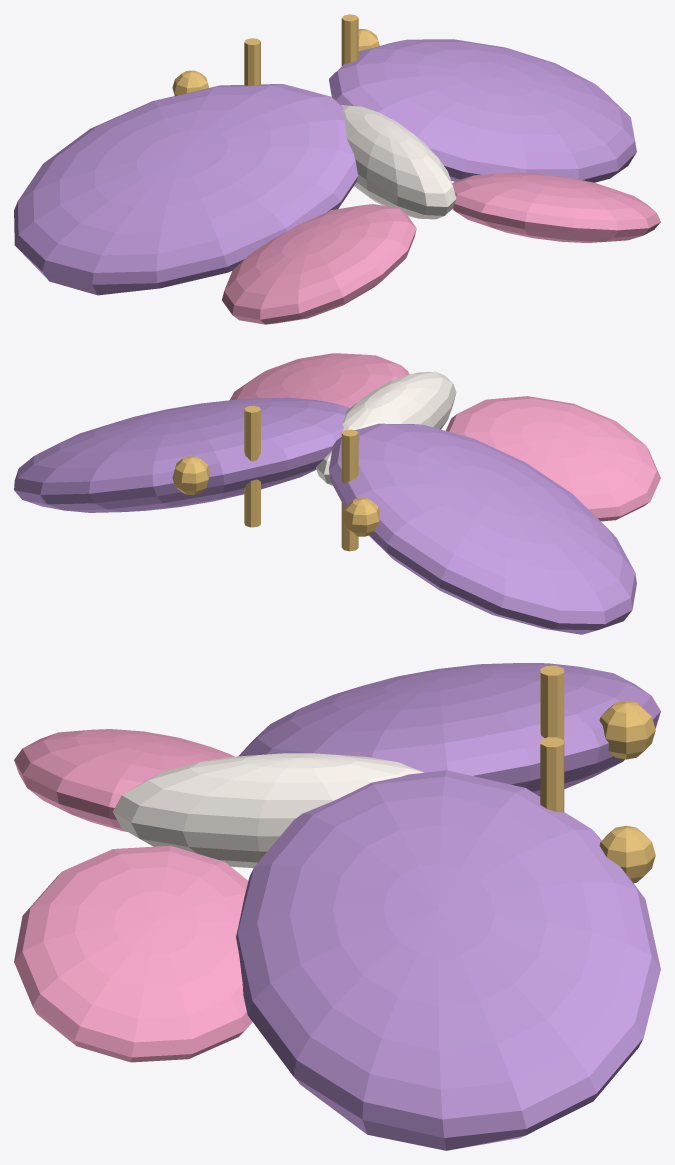
File: charm-butterfly.glb
The picture shows the model from 3 angles, top to bottom: view 1: azimuth 30°, elevation 25°; view 2: azimuth 150°, elevation 25°; view 3: azimuth 270°, elevation 25°; orthographic projection. The views are drawn at different scales.
Visible parts, largest first — view 1: charm_butterfly; view 2: charm_butterfly; view 3: charm_butterfly.
Boxes of the visible parts, x1=… form: charm_butterfly: x1=14, y1=14, x2=660, y2=324; charm_butterfly: x1=14, y1=353, x2=660, y2=634; charm_butterfly: x1=14, y1=663, x2=660, y2=1150.
Bounding box in the file's own units: 0.00969 × 0.00244 × 0.00612.
